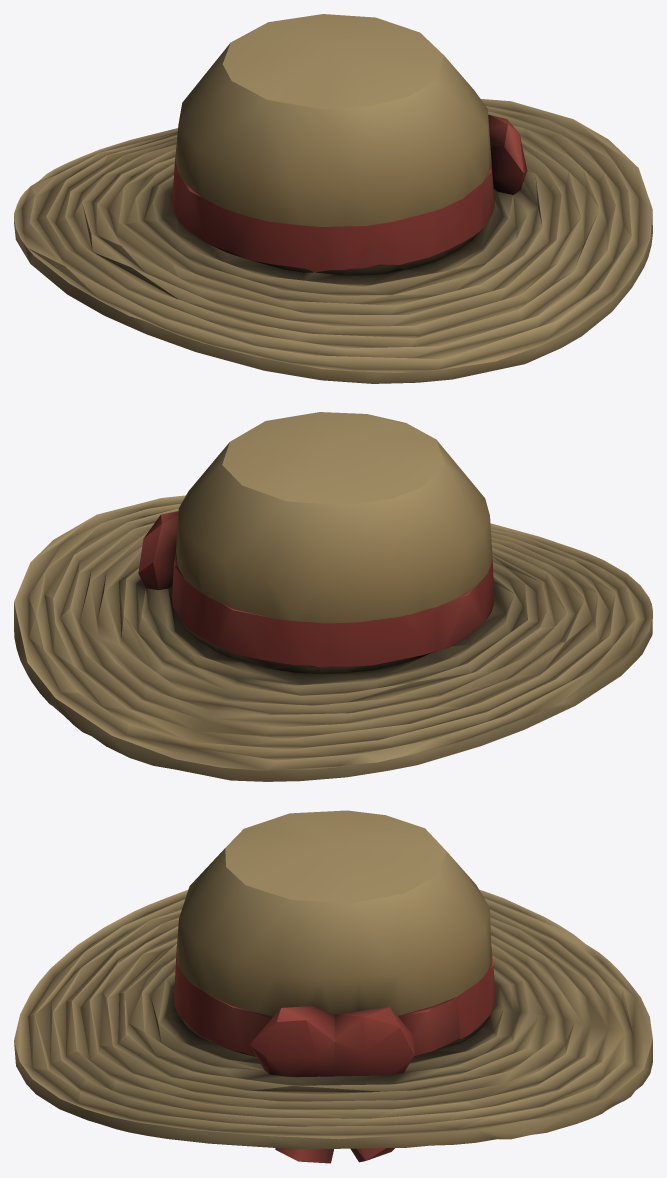
Rendered from folk_hat_straw.glb.
3 renders of one model, top to bottom at view 1: azimuth 30°, elevation 25°; view 2: azimuth 150°, elevation 25°; view 3: azimuth 270°, elevation 25°, orthographic.
Parts seen in each view (by area): view 1: folk_hat_straw_LOD0; view 2: folk_hat_straw_LOD0; view 3: folk_hat_straw_LOD0.
Part boxes in pixels (x1=…): folk_hat_straw_LOD0: x1=14, y1=14, x2=652, y2=383; folk_hat_straw_LOD0: x1=14, y1=412, x2=652, y2=781; folk_hat_straw_LOD0: x1=14, y1=810, x2=652, y2=1163.
Size of what is drawn, in the model's own units: 0.4128 by 0.1669 by 0.4118.
